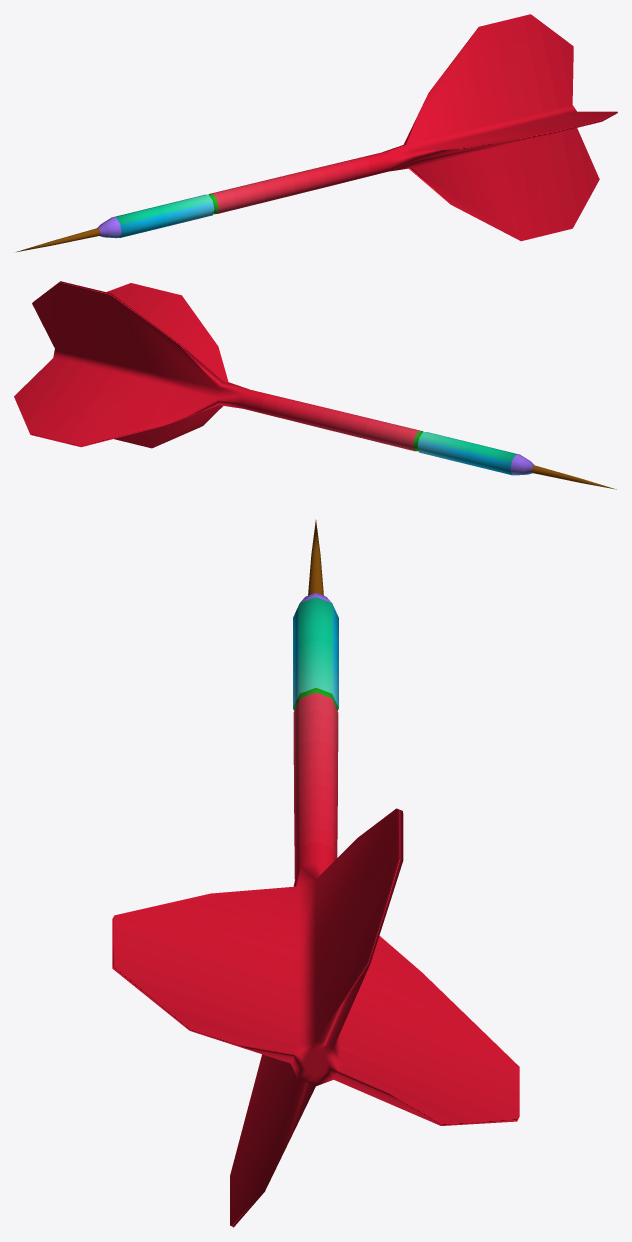
Rendered from dart_blue 1.fbx.
3 renders of one model, top to bottom at view 1: azimuth 30°, elevation 25°; view 2: azimuth 150°, elevation 25°; view 3: azimuth 270°, elevation 25°, orthographic. The views are drawn at different scales.
Visible parts, largest first — view 1: dart_blue; view 2: dart_blue; view 3: dart_blue.
Part boxes in pixels (bbox=[...]): dart_blue: bbox=[16, 14, 617, 252]; dart_blue: bbox=[14, 281, 616, 489]; dart_blue: bbox=[112, 519, 519, 1227].
Bounding box in the file's own units: 34.15 × 10.54 × 10.53.
